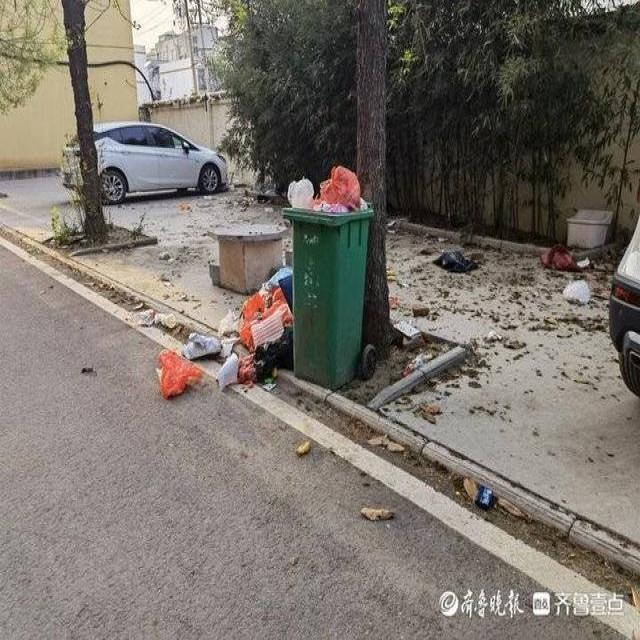garbage: (213, 264, 289, 381), (143, 336, 204, 413), (281, 167, 366, 214)
